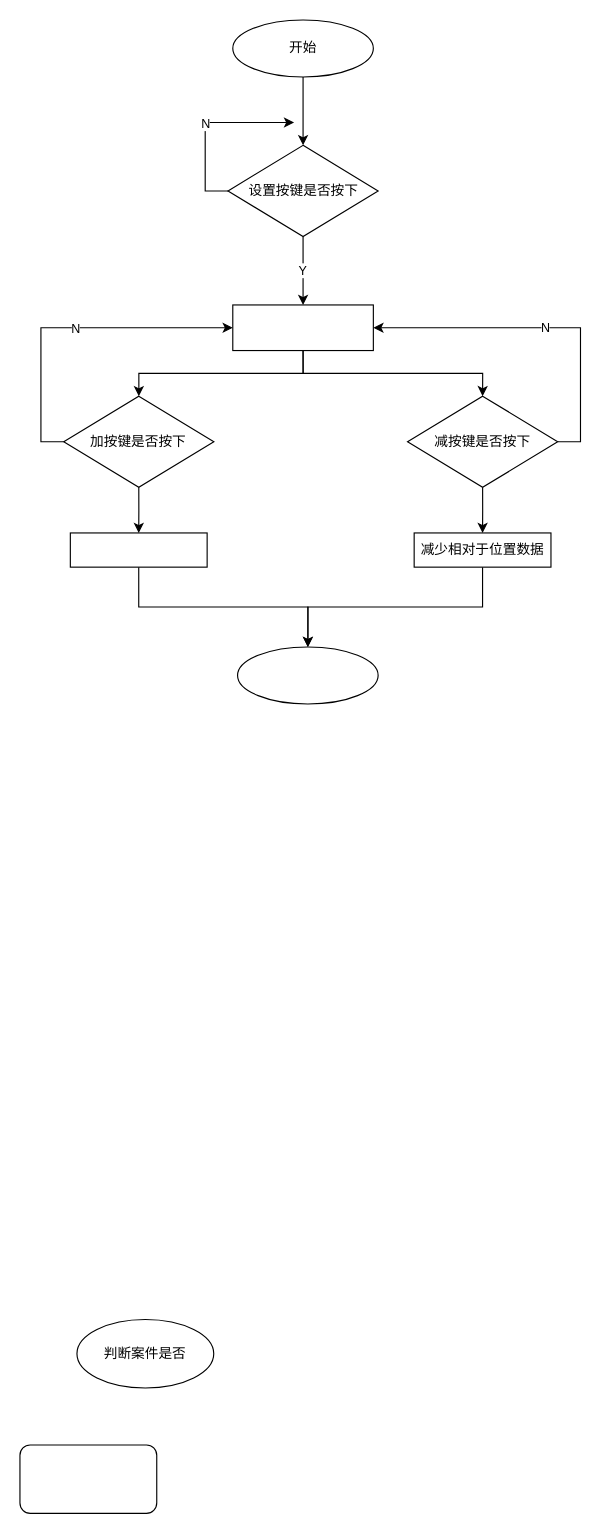
Some shapes in this 610 by 1533 pixel diagram are drawn without their labels. Each missing label, with the centre of its shape:
"增加相对于位置数据" goes at [138,549].
"结束" goes at [307,675].
"进入设置界面" goes at [302,327].
